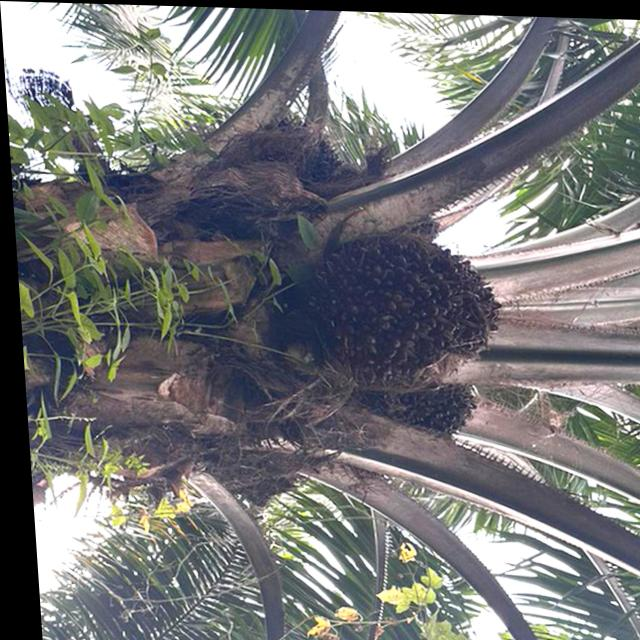unripe: (285, 216, 507, 397)
